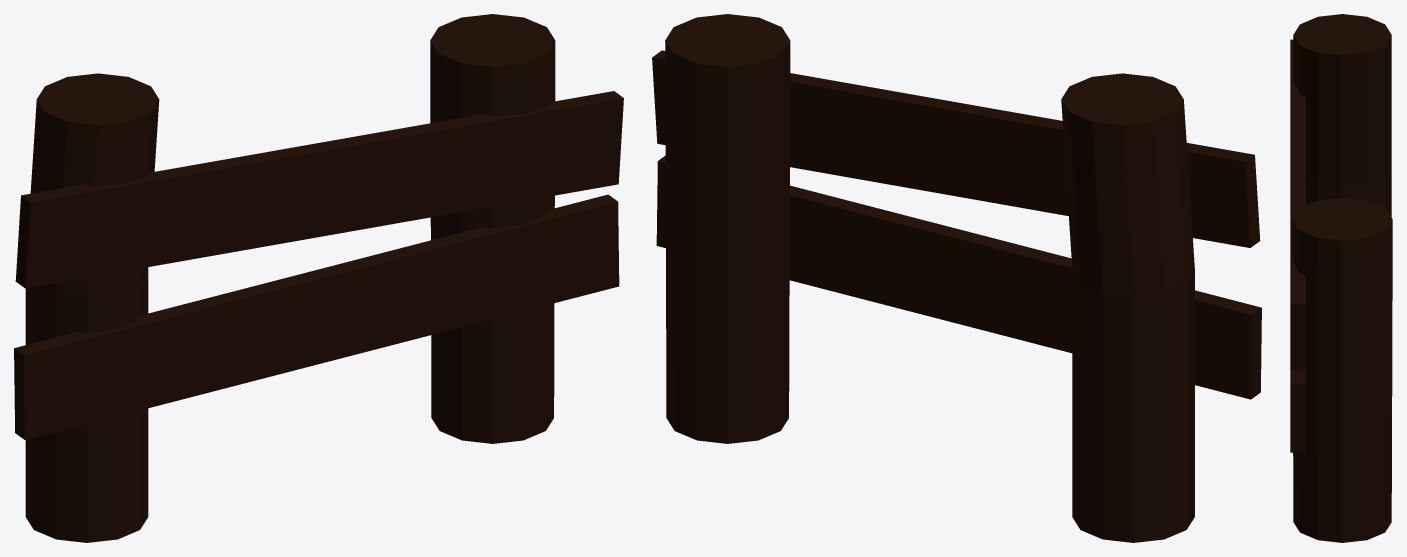
File: Fence1.FBX
3 views of the same model, side by side, from view 1: azimuth 30°, elevation 25°; view 2: azimuth 150°, elevation 25°; view 3: azimuth 270°, elevation 25° (orthographic). The views are drawn at different scales.
Visible parts, largest first — view 1: Cylinder001, Box002, Box001; view 2: Cylinder001, Box002, Box001; view 3: Cylinder001, Box001, Box002.
Part boxes in pixels (x1,y1,x2,y2): Cylinder001: [25, 14, 555, 542]; Box002: [14, 194, 619, 439]; Box001: [15, 91, 623, 288]; Cylinder001: [665, 14, 1194, 542]; Box002: [656, 155, 1261, 399]; Box001: [652, 50, 1260, 247]; Cylinder001: [1292, 14, 1392, 542]; Box001: [1290, 39, 1305, 370]; Box002: [1290, 370, 1305, 452].
Size of the model in its own units: 30.34 by 20.05 by 5.6.
